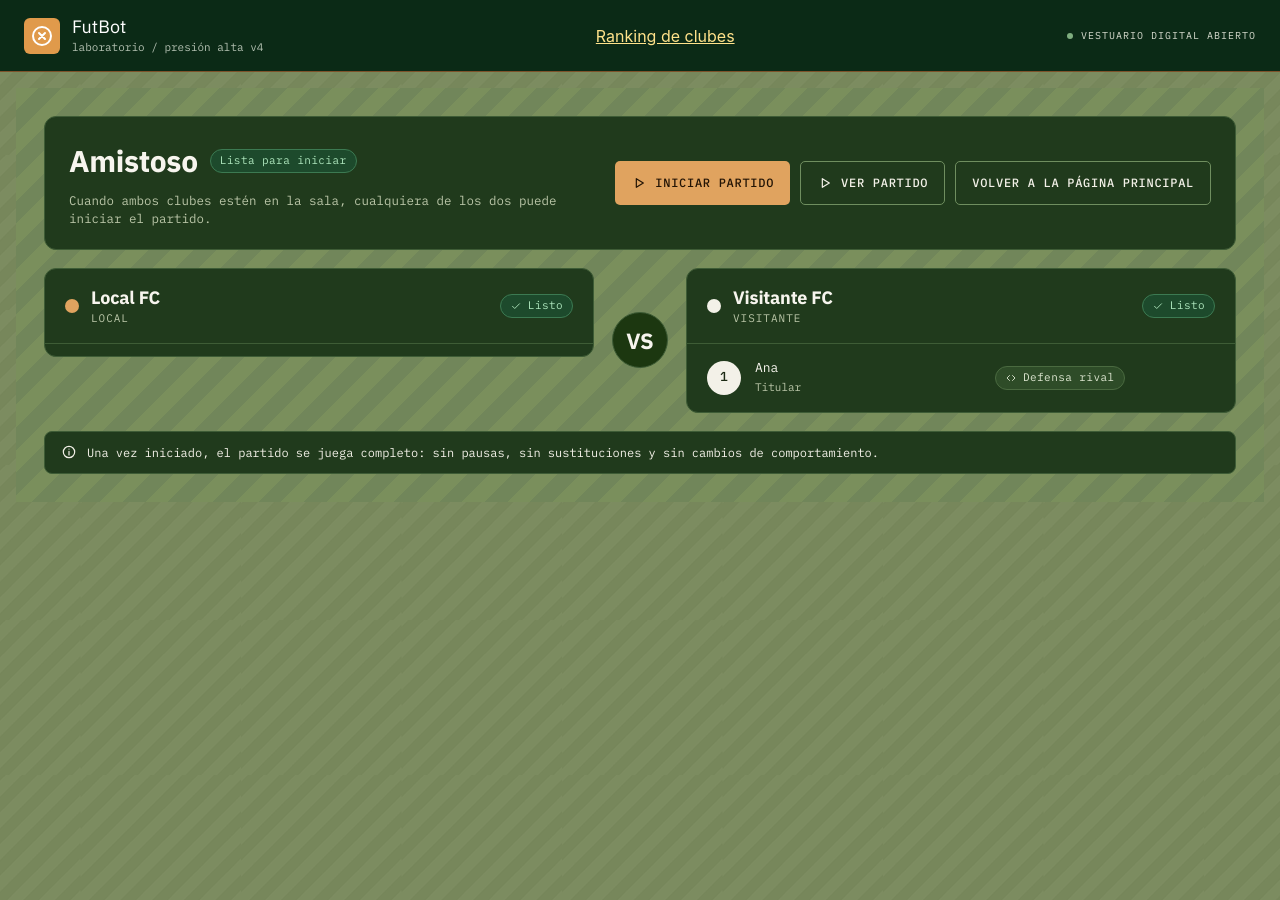
Test: abre la vista real desde la sala (ya iniciado: false)
What coordinates should you click on to do the following:
click the button "Iniciar partido"
I would click on:
 (703, 183)
Its box is [615,161,790,205].
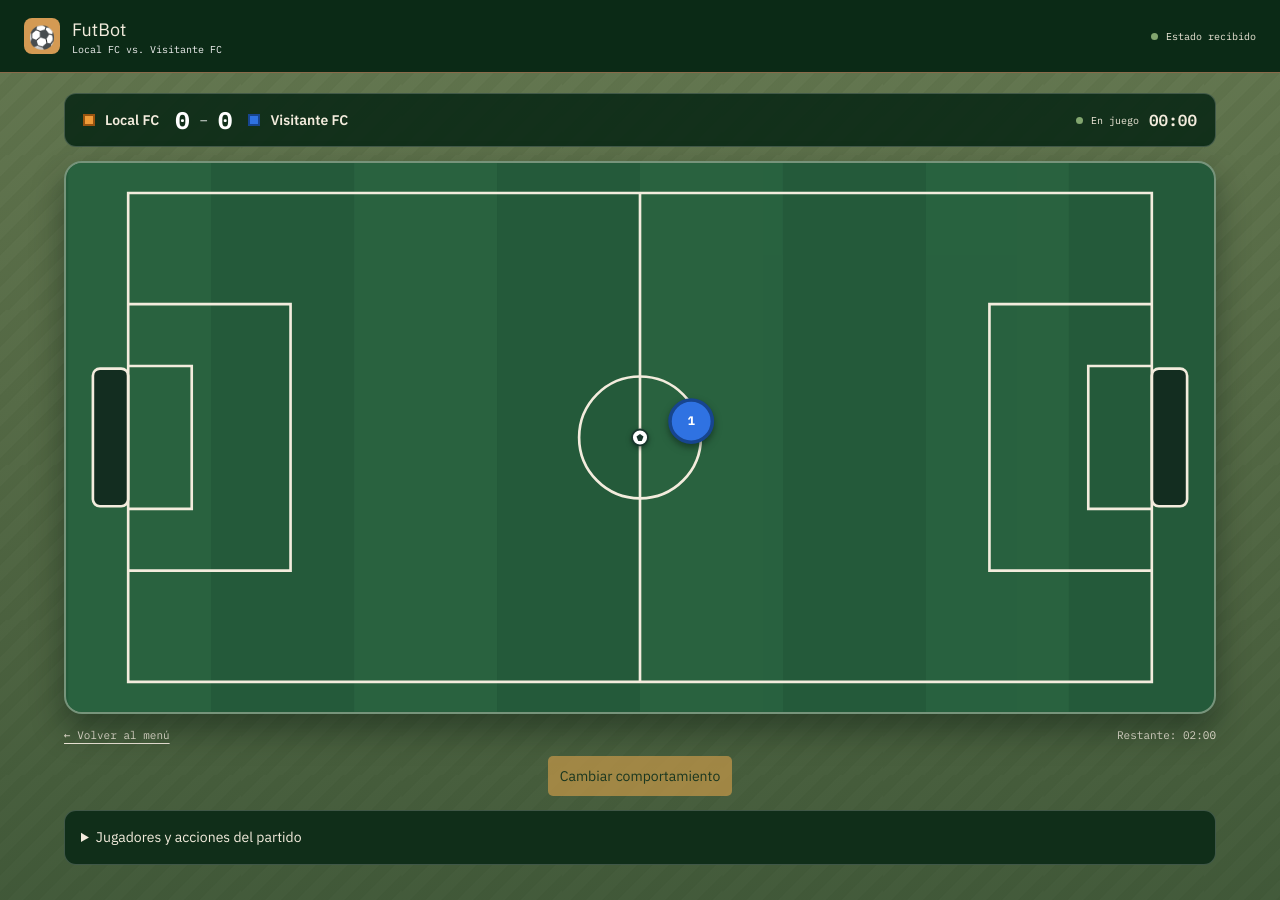
Check: the picture named "Cancha del partido" is shown, box [64,161,1216,714]
Check: the text "laboratorio / presión alta v4" is gone
Check: the number of headers is 1, box [0,0,1279,73]
